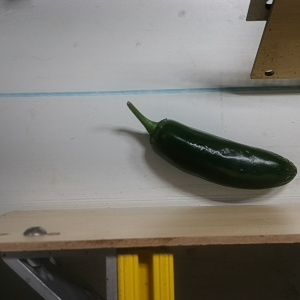Cut Point: (141, 114, 177, 153)
